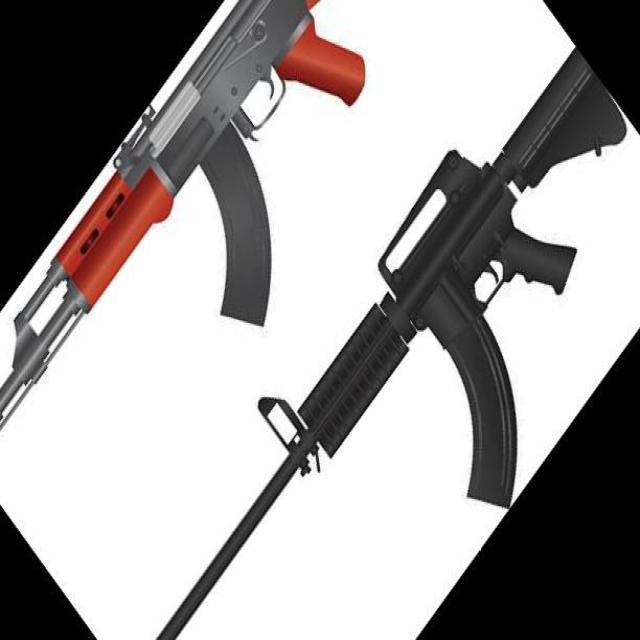weapon: (155, 43, 628, 640), (0, 0, 367, 434)
